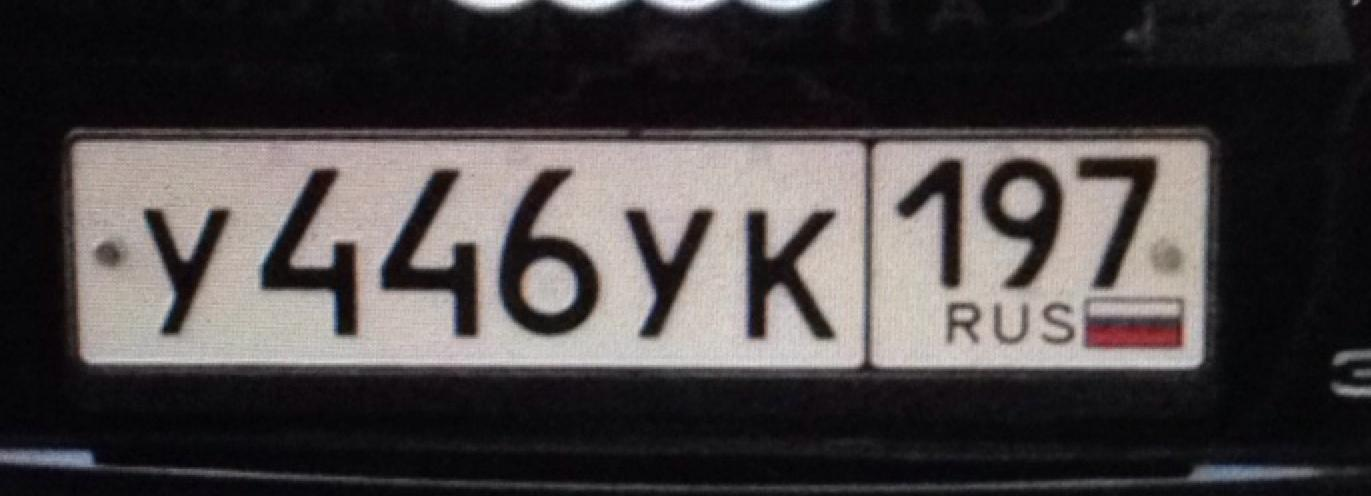license-plateSW: (69, 125, 1228, 374)
